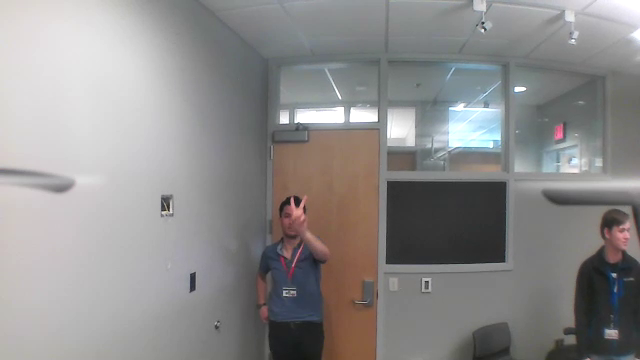peace: (284, 193, 313, 234)
